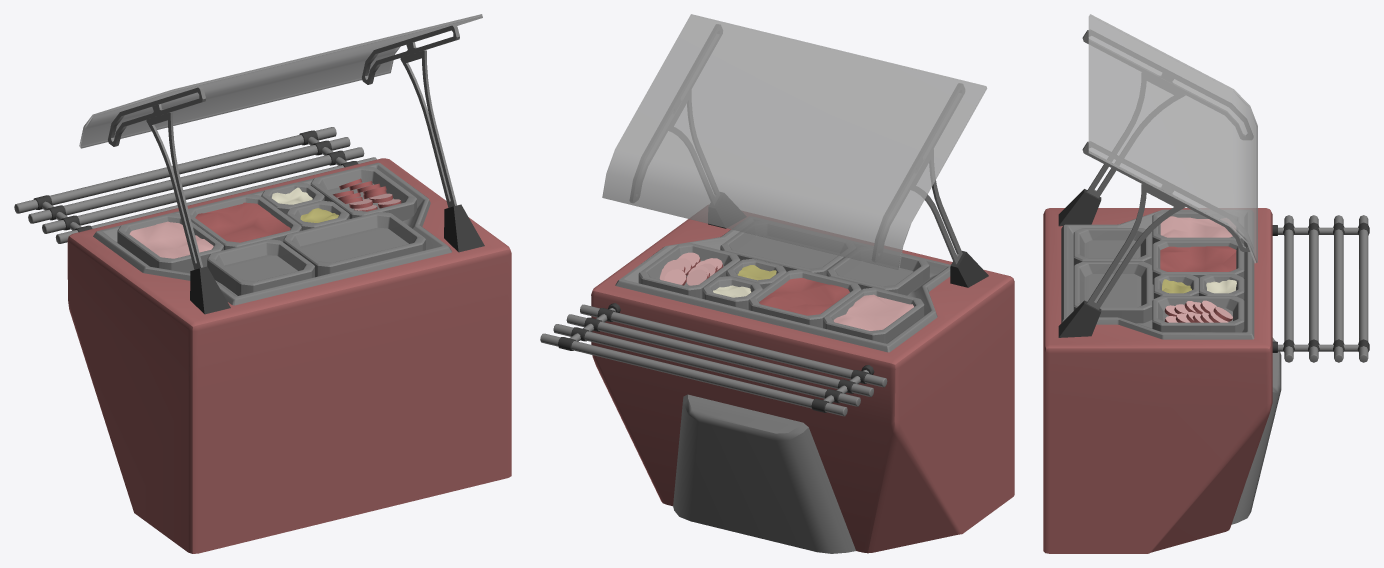
Rendered from SM_Comptoir.fbx.
3 renders of one model, left to right at view 1: azimuth 30°, elevation 25°; view 2: azimuth 150°, elevation 25°; view 3: azimuth 270°, elevation 25°, orthographic. The views are drawn at different scales.
Parts seen in each view (by area): view 1: SM_Comptoir_01; view 2: SM_Comptoir_01; view 3: SM_Comptoir_01.
Boxes of the visible parts, x1,y1,x2,y2 form: SM_Comptoir_01: (14,14,511,553); SM_Comptoir_01: (540,14,1014,553); SM_Comptoir_01: (1043,14,1369,553).
Bounding box in the file's own units: 120 × 158 × 117.
